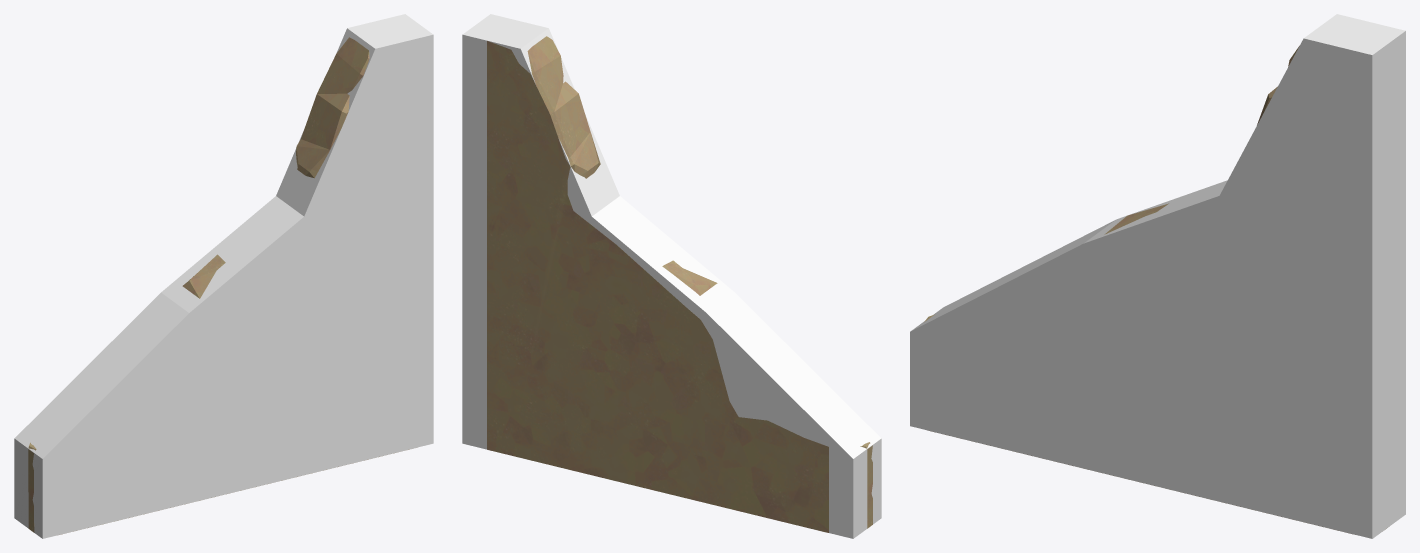
Rendered from BrokenWall_Full_B_Corner_BOTH.fbx.
3 views of the same model, side by side, from view 1: azimuth 30°, elevation 25°; view 2: azimuth 150°, elevation 25°; view 3: azimuth 330°, elevation 25° (orthographic). The views are drawn at different scales.
Visible parts, largest first — view 1: BrokenWall_B_Corner_BOTH_COL, BrokenWall_B_Corner_BOTH; view 2: BrokenWall_B_Corner_BOTH, BrokenWall_B_Corner_BOTH_COL; view 3: BrokenWall_B_Corner_BOTH_COL, BrokenWall_B_Corner_BOTH.
Boxes of the visible parts, x1,y1,x2,y2 form: BrokenWall_B_Corner_BOTH_COL: (14,14,433,538); BrokenWall_B_Corner_BOTH: (28,37,409,534); BrokenWall_B_Corner_BOTH: (487,36,872,532); BrokenWall_B_Corner_BOTH_COL: (462,14,881,538); BrokenWall_B_Corner_BOTH_COL: (910,14,1405,538); BrokenWall_B_Corner_BOTH: (924,45,1386,534).
Size of the model in its own units: 400 by 400 by 50.02.
